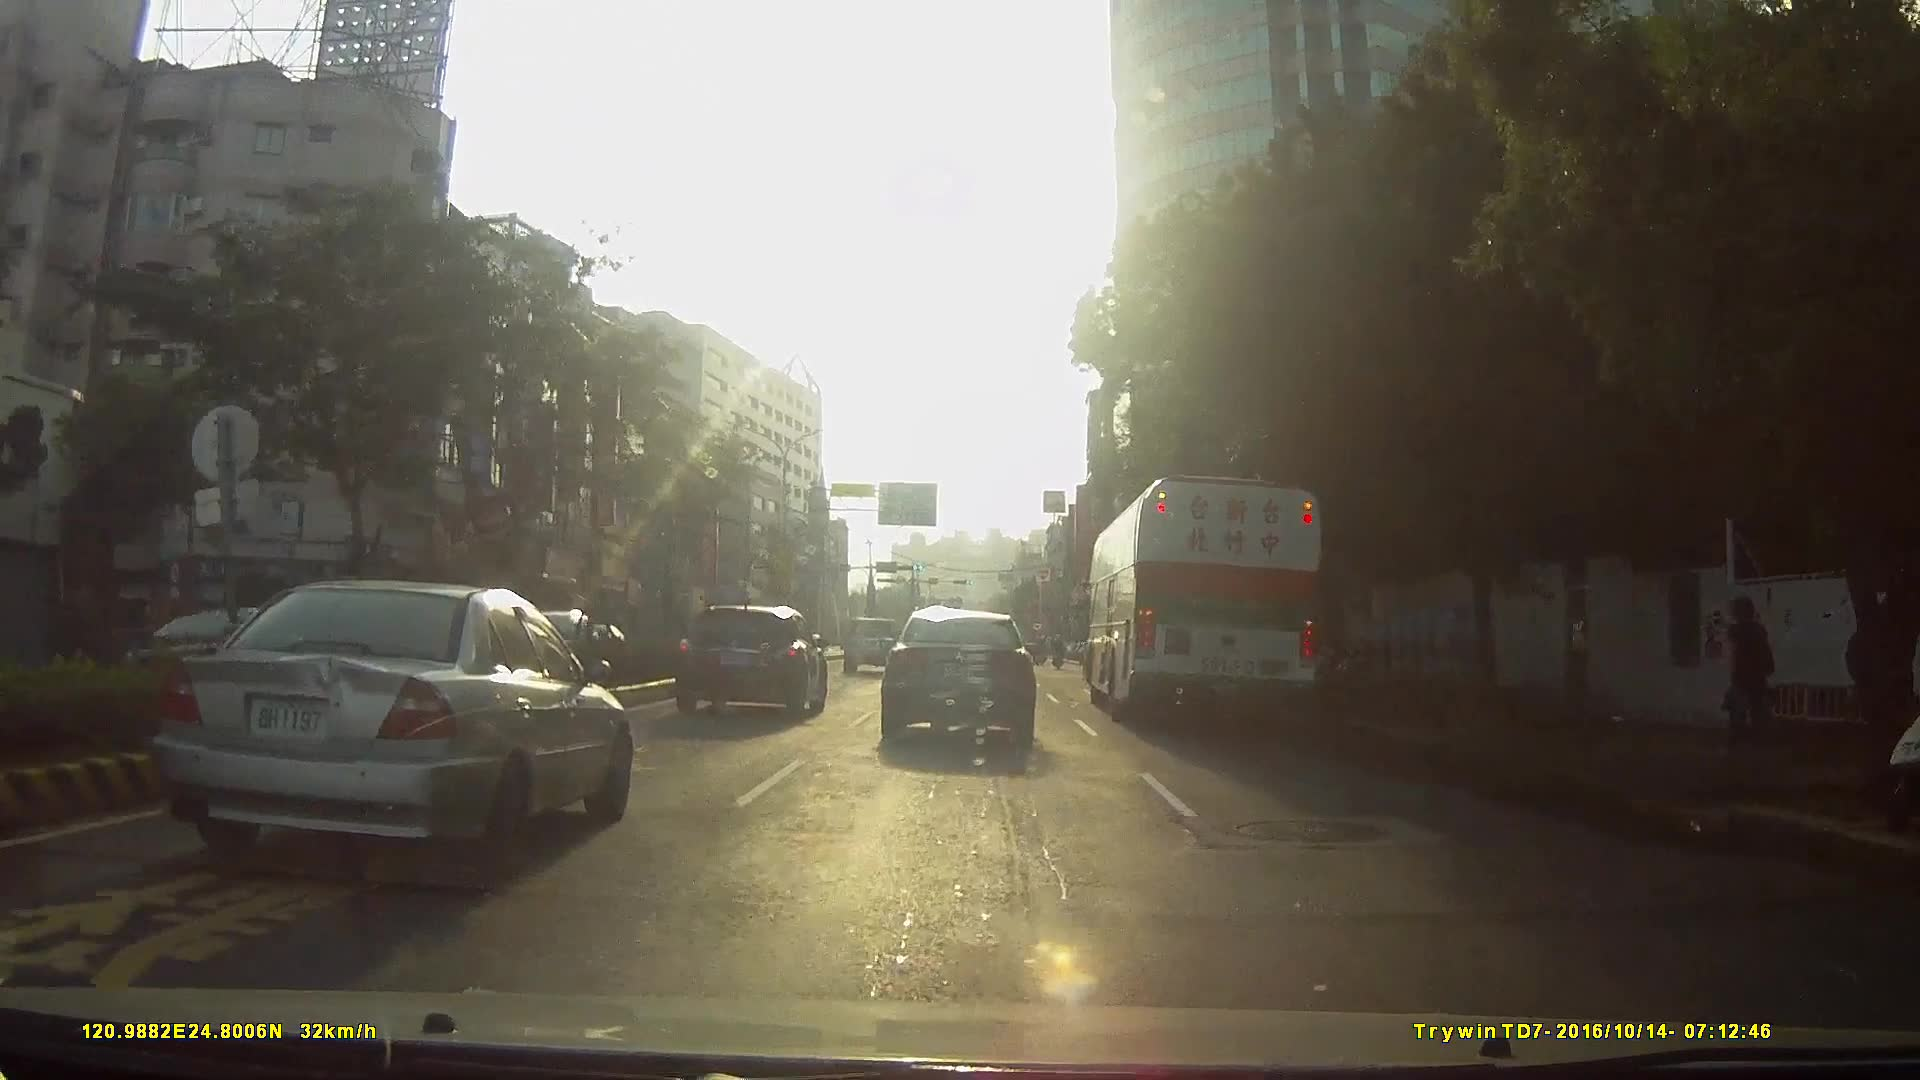pedestrian: (1722, 596, 1782, 761)
vehicle: (142, 578, 630, 886), (1088, 470, 1335, 728), (876, 608, 1038, 751), (673, 602, 829, 721), (842, 615, 902, 673)
